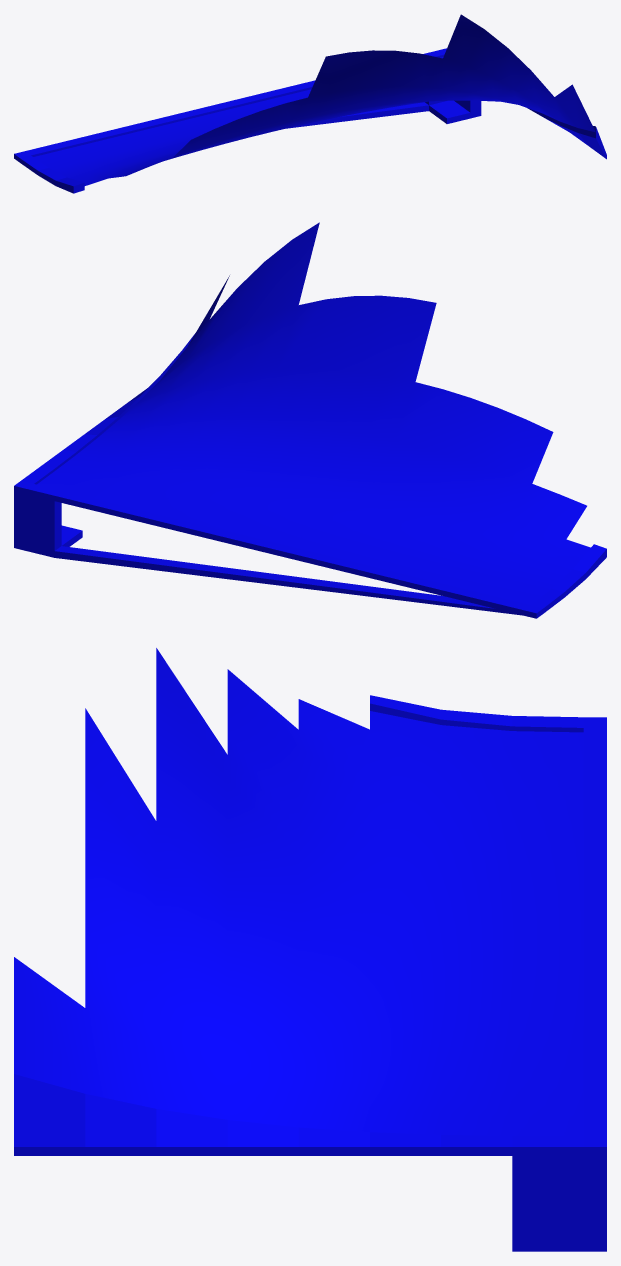
Rendered from sub_BrokenWireNettingStoolUP2.fbx.
3 renders of one model, top to bottom at view 1: azimuth 30°, elevation 25°; view 2: azimuth 150°, elevation 25°; view 3: azimuth 270°, elevation 25°, orthographic. The views are drawn at different scales.
Visible parts, largest first — view 1: sub_BrokenWireNettingStoolUP2; view 2: sub_BrokenWireNettingStoolUP2; view 3: sub_BrokenWireNettingStoolUP2.
Part boxes in pixels (x1,y1,x2,y2): sub_BrokenWireNettingStoolUP2: [14, 14, 606, 193]; sub_BrokenWireNettingStoolUP2: [14, 222, 606, 618]; sub_BrokenWireNettingStoolUP2: [14, 648, 606, 1251].
Size of the model in its own units: 6.28 by 2.86 by 3.66.
